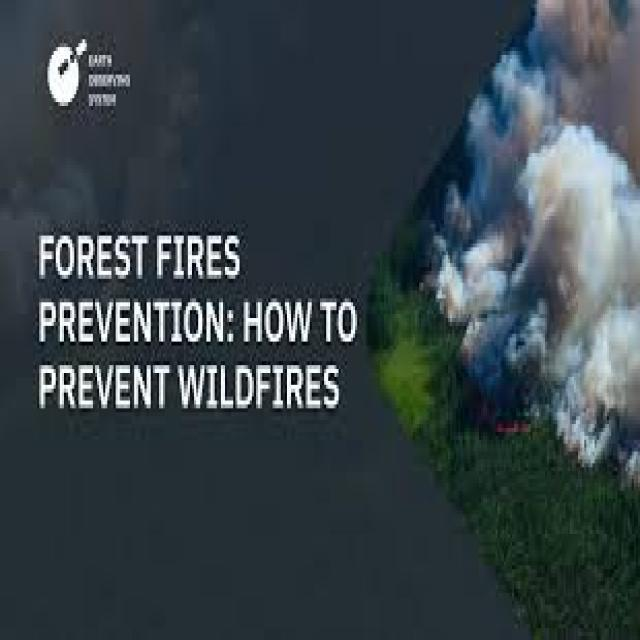Smoke: (540, 1, 639, 484), (435, 178, 639, 412)
